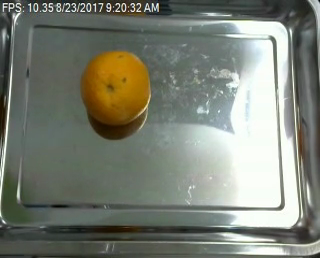Orange: (82, 49, 152, 125)
